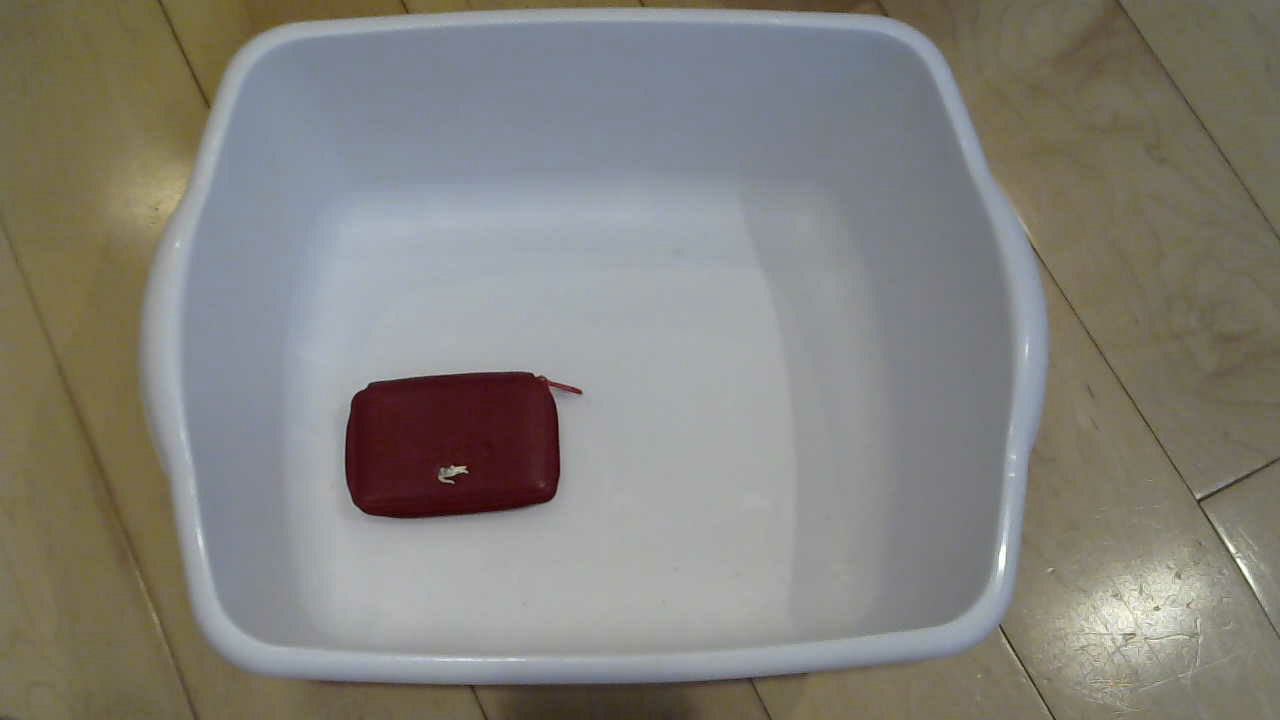wallet: (326, 373, 583, 539)
